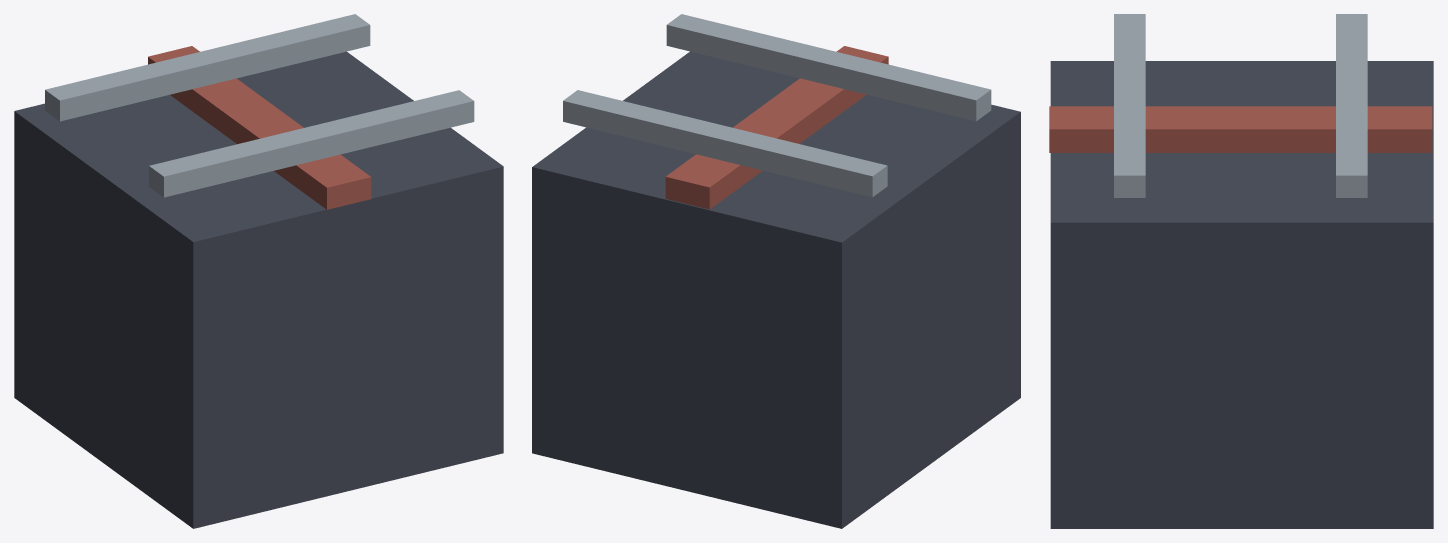
The model's file is RoadRail.fbx.
The picture shows the model from 3 angles, left to right: view 1: azimuth 30°, elevation 25°; view 2: azimuth 150°, elevation 25°; view 3: azimuth 270°, elevation 25°; orthographic projection. The views are drawn at different scales.
Parts seen in each view (by area): view 1: RoadRail; view 2: RoadRail; view 3: RoadRail.
Part boxes in pixels (x1,y1,x2,y2): RoadRail: [14, 14, 503, 528]; RoadRail: [532, 14, 1020, 528]; RoadRail: [1049, 14, 1433, 528].
Bounding box in the file's own units: 1 × 1.02 × 1.
